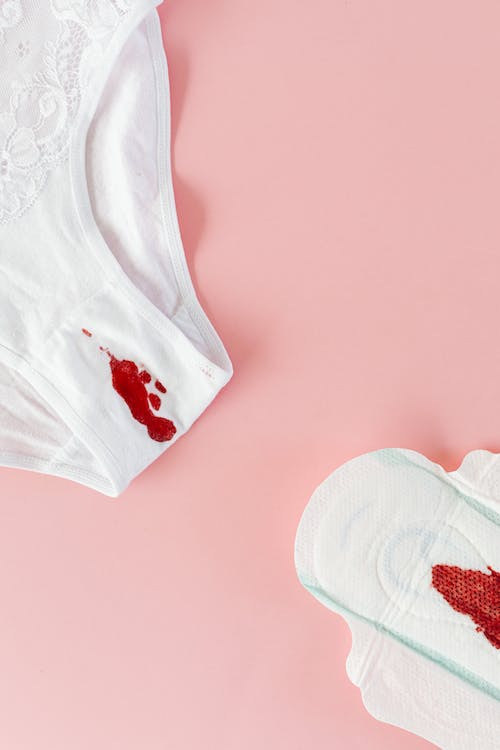blood: (78, 323, 215, 446), (426, 558, 500, 650)
